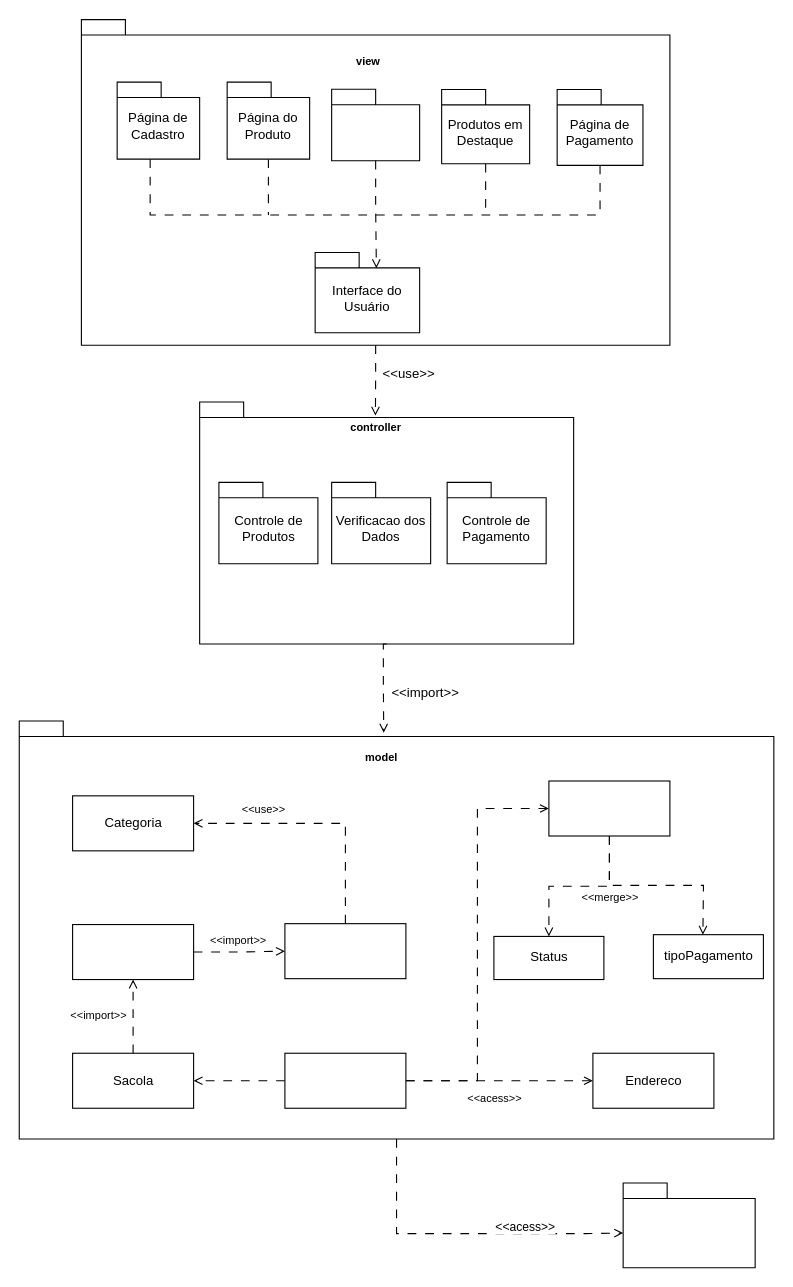
The diagram is 793 pixels wide and 1287 high, and some of its shapes have lost their labels. Here are the shapes that lost their labels. From the top down, the box of each, then its label:
(331, 88, 420, 161): Busca de Produtos
(548, 780, 670, 836): Pedido
(72, 923, 194, 980): itemSacola
(284, 923, 406, 979): Produto
(284, 1052, 406, 1108): Comprador
(622, 1182, 755, 1268): Banco de dados
